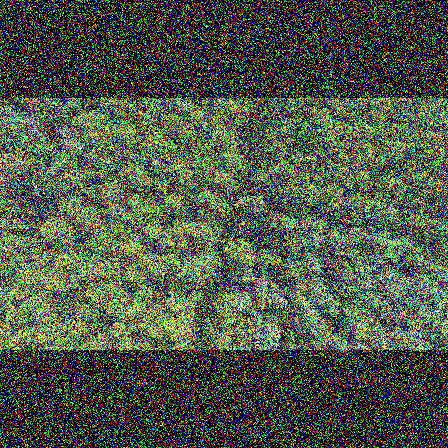Dead: (53, 125, 81, 148), (28, 122, 51, 143)
